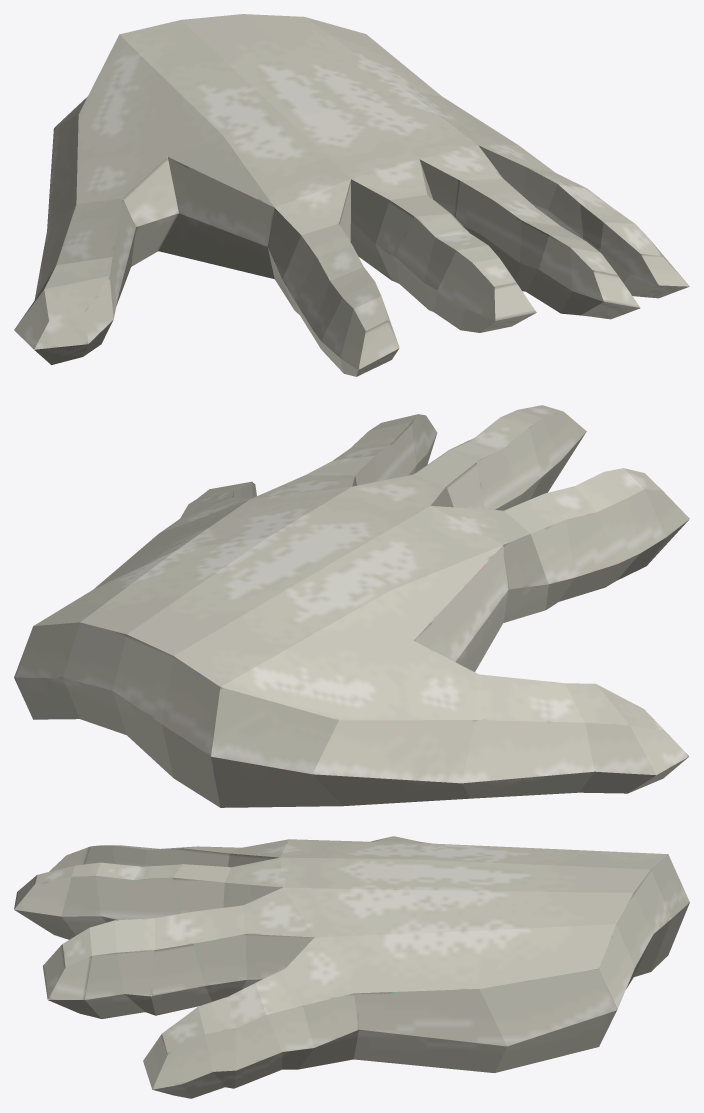
The model's file is Hand.fbx.
3 renders of one model, top to bottom at view 1: azimuth 30°, elevation 25°; view 2: azimuth 150°, elevation 25°; view 3: azimuth 270°, elevation 25°, orthographic. The views are drawn at different scales.
Parts seen in each view (by area): view 1: Hand; view 2: Hand; view 3: Hand.
Part boxes in pixels (<box>): Hand: <box>14,14,689,376</box>; Hand: <box>14,405,689,807</box>; Hand: <box>14,836,689,1098</box>.
Size of the model in its own units: 313 by 89.79 by 366.
Materials: 1 (1 with a texture image).
